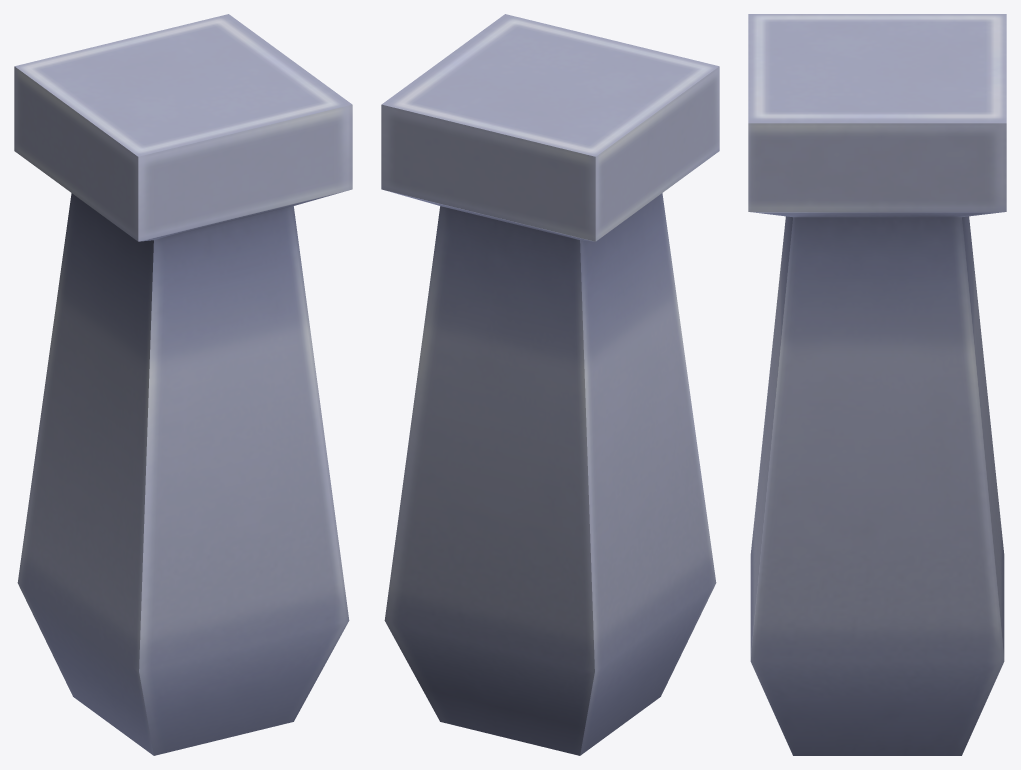
The model's file is Barn_Fence_Pole.FBX.
The picture shows the model from 3 angles, left to right: view 1: azimuth 30°, elevation 25°; view 2: azimuth 150°, elevation 25°; view 3: azimuth 270°, elevation 25°; orthographic projection. The views are drawn at different scales.
Parts seen in each view (by area): view 1: Barn_Fence_Pole; view 2: Barn_Fence_Pole; view 3: Barn_Fence_Pole.
Boxes of the visible parts, x1,y1,x2,y2 form: Barn_Fence_Pole: (14, 14, 352, 755); Barn_Fence_Pole: (381, 14, 719, 755); Barn_Fence_Pole: (748, 14, 1006, 755).
Bounding box in the file's own units: 19.51 × 54.28 × 19.51.
